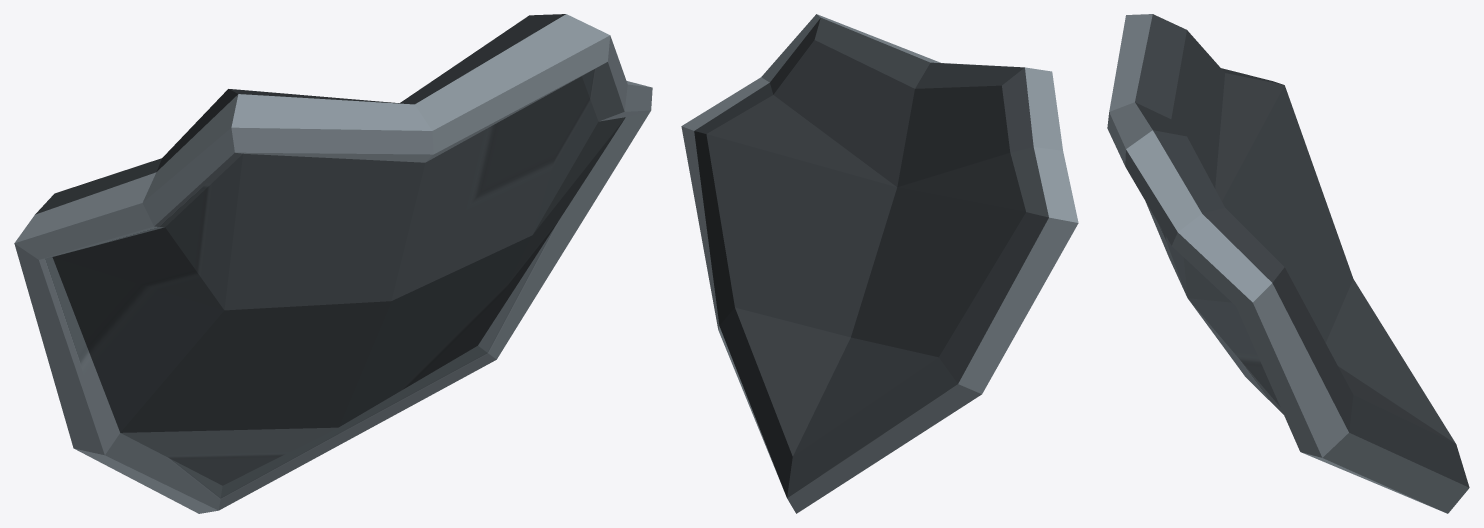
Rendered from SM_Chr_Attach_Armour_Light_Chest_Small_01.fbx.
3 views of the same model, side by side, from view 1: azimuth 30°, elevation 25°; view 2: azimuth 150°, elevation 25°; view 3: azimuth 270°, elevation 25° (orthographic). The views are drawn at different scales.
Visible parts, largest first — view 1: SM_Chr_Attach_Armour_Light_Chest_Small_01; view 2: SM_Chr_Attach_Armour_Light_Chest_Small_01; view 3: SM_Chr_Attach_Armour_Light_Chest_Small_01.
Part boxes in pixels (left/top/right/bottom): SM_Chr_Attach_Armour_Light_Chest_Small_01: left=14, top=14, right=652, bottom=513; SM_Chr_Attach_Armour_Light_Chest_Small_01: left=681, top=14, right=1078, bottom=513; SM_Chr_Attach_Armour_Light_Chest_Small_01: left=1107, top=14, right=1469, bottom=513.
Size of the model in its own units: 21.17 by 19.29 by 14.34.
